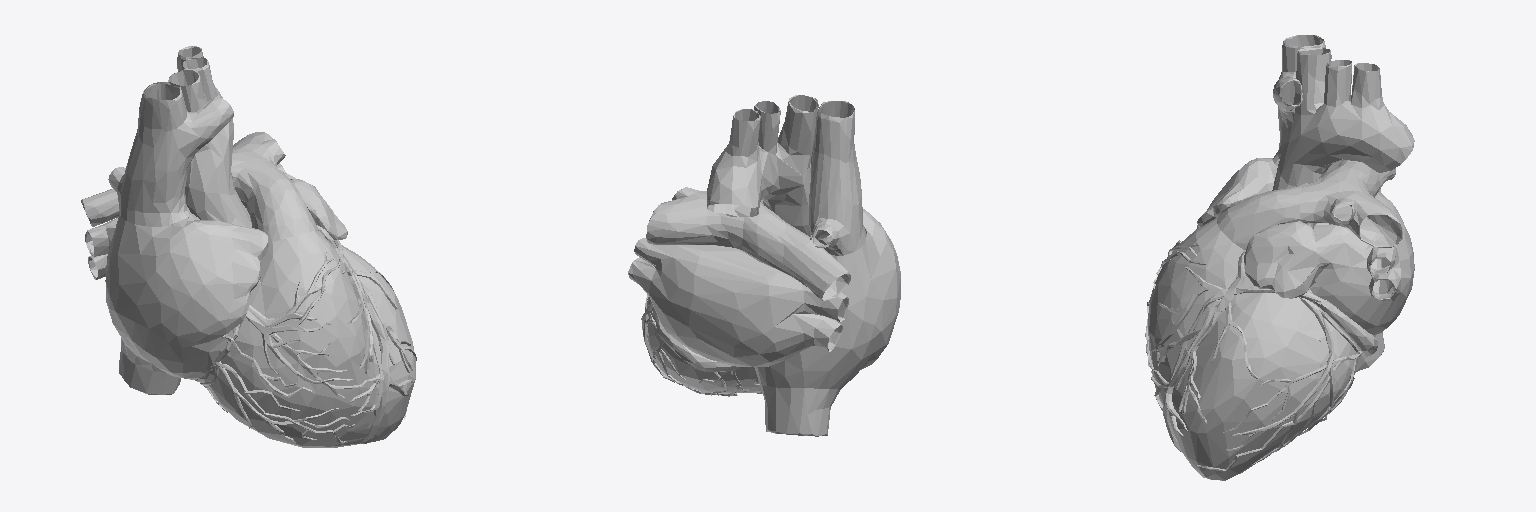
File: heart.obj
The picture shows the model from 3 angles: view 1: azimuth 30°, elevation 25°; view 2: azimuth 150°, elevation 25°; view 3: azimuth 270°, elevation 25°; orthographic projection.
Bounding box in the file's own units: 1.77 × 2.41 × 1.63.